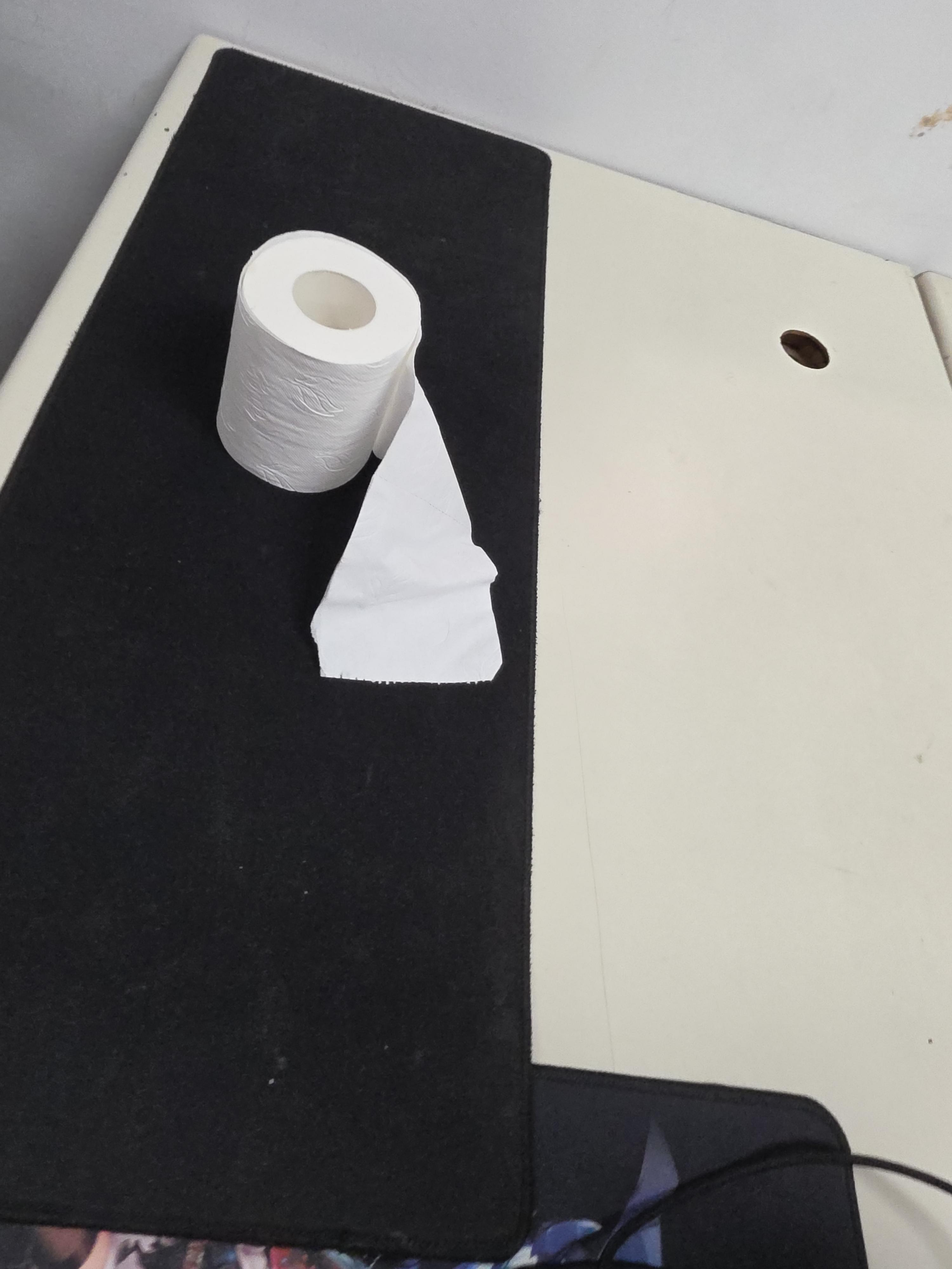tissue: (216, 229, 503, 685)
